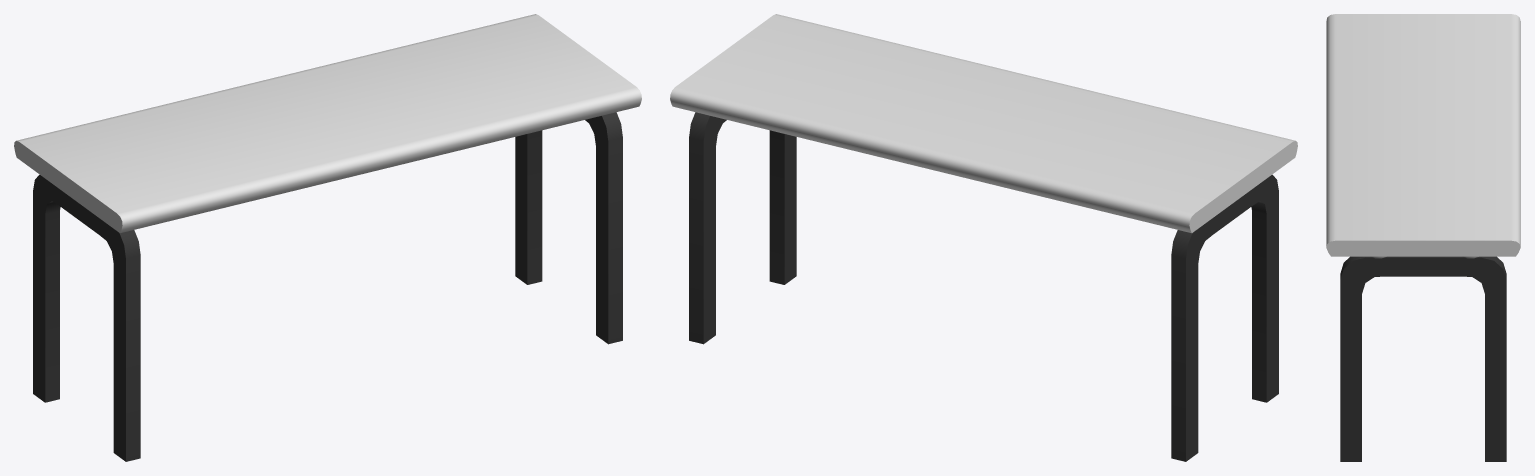
Rendered from desk_3.glb.
3 renders of one model, left to right at view 1: azimuth 30°, elevation 25°; view 2: azimuth 150°, elevation 25°; view 3: azimuth 270°, elevation 25°, orthographic. The views are drawn at different scales.
Parts seen in each view (by area): view 1: Desk Alter; view 2: Desk Alter; view 3: Desk Alter.
Boxes of the visible parts, x1,y1,x2,y2 form: Desk Alter: (14, 14, 641, 461); Desk Alter: (670, 14, 1297, 461); Desk Alter: (1326, 14, 1520, 461).
Size of the model in its own units: 2.14 by 0.9955 by 0.7744.
Materials: 1 (1 with a texture image).
